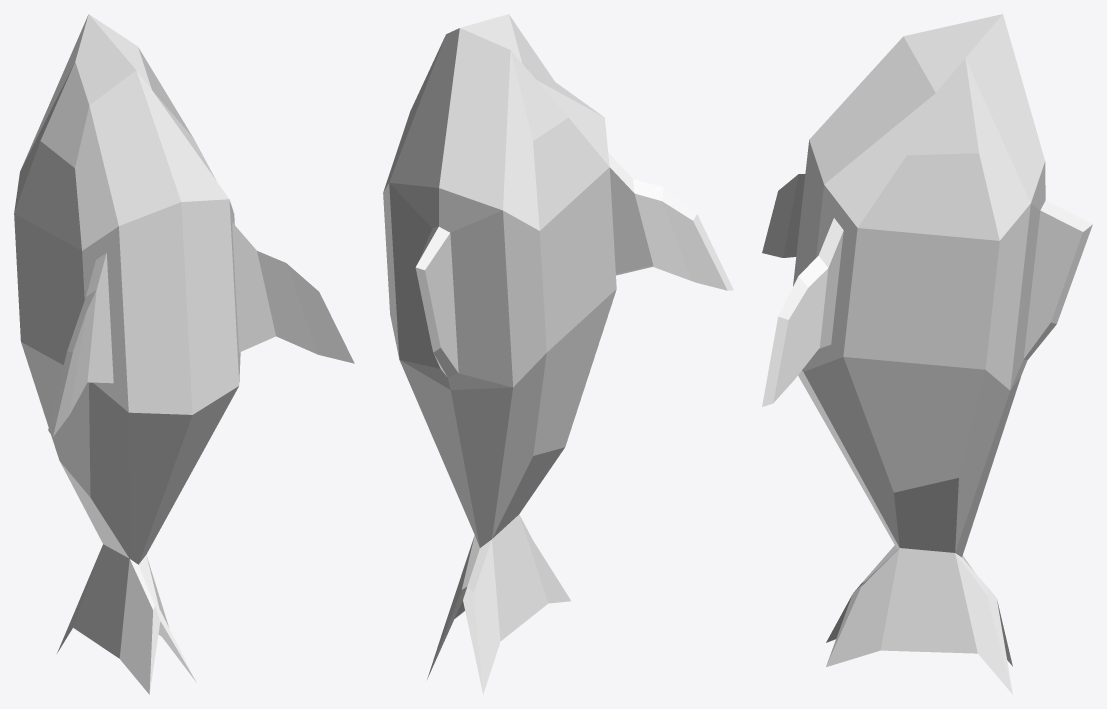
The model's file is fish.FBX.
The picture shows the model from 3 angles, left to right: view 1: azimuth 30°, elevation 25°; view 2: azimuth 150°, elevation 25°; view 3: azimuth 270°, elevation 25°; orthographic projection. The views are drawn at different scales.
Parts seen in each view (by area): view 1: Cube.231; view 2: Cube.231; view 3: Cube.231.
Boxes of the visible parts, x1=… form: Cube.231: x1=14, y1=14, x2=354, y2=694; Cube.231: x1=383, y1=14, x2=733, y2=694; Cube.231: x1=762, y1=14, x2=1092, y2=694.
Bounding box in the file's own units: 47.93 × 96.72 × 43.5.
